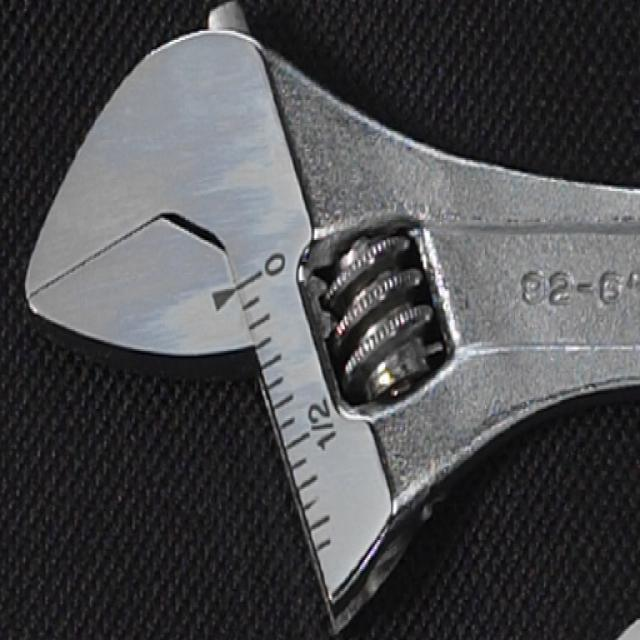wrench: (16, 0, 640, 639)
